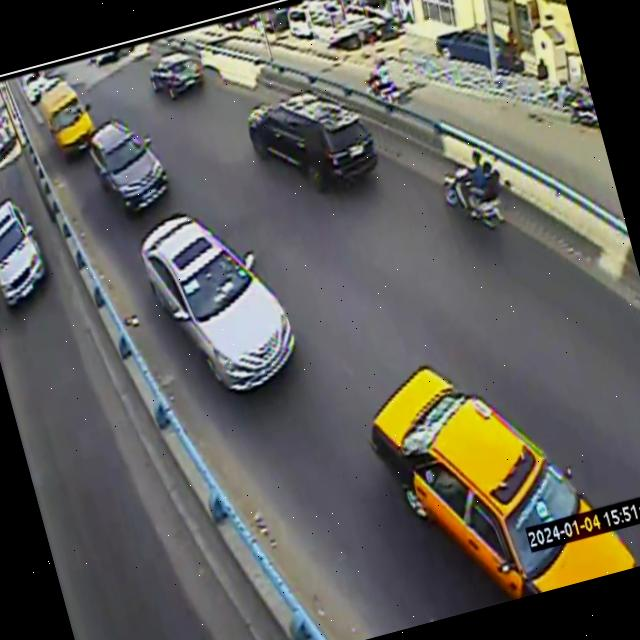car: (371, 366, 636, 598), (140, 213, 294, 391), (247, 91, 377, 192), (90, 119, 167, 211), (39, 81, 94, 156), (149, 51, 203, 98)
